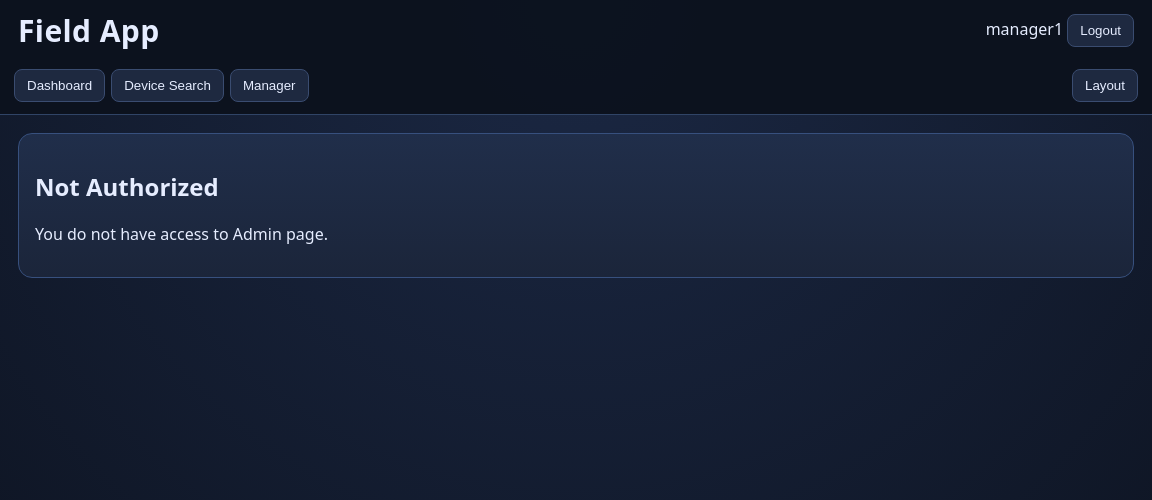
it: App › shows not authorized for admin route when manager is logged in and allows logout
Expected: the heading "Not Authorized" is shown, [35,170,219,203]
Click the button "Logout" at (1101, 30), box [1067,14,1134,47]
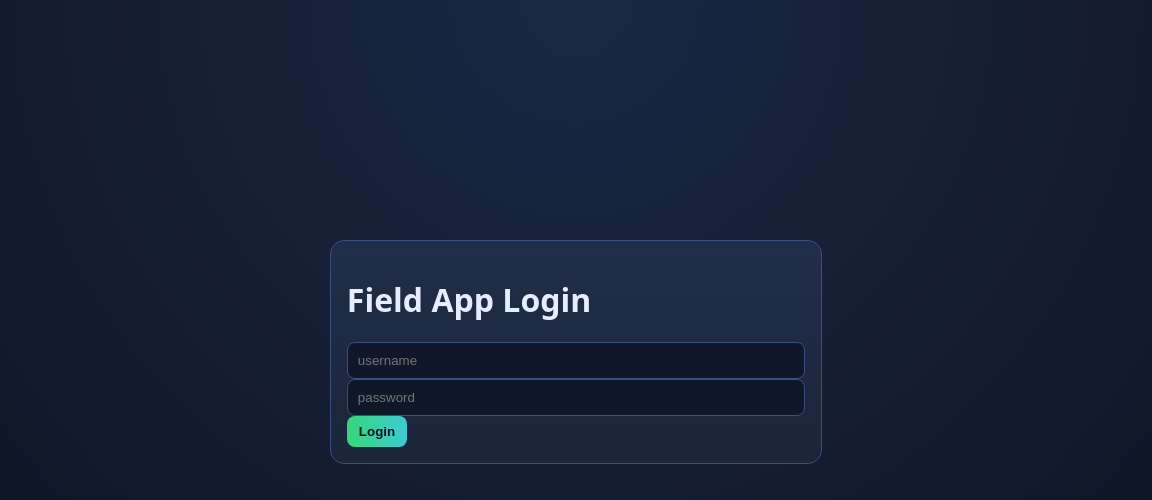
Result: the heading "Field App Login" is shown at [347,278,591,321]
